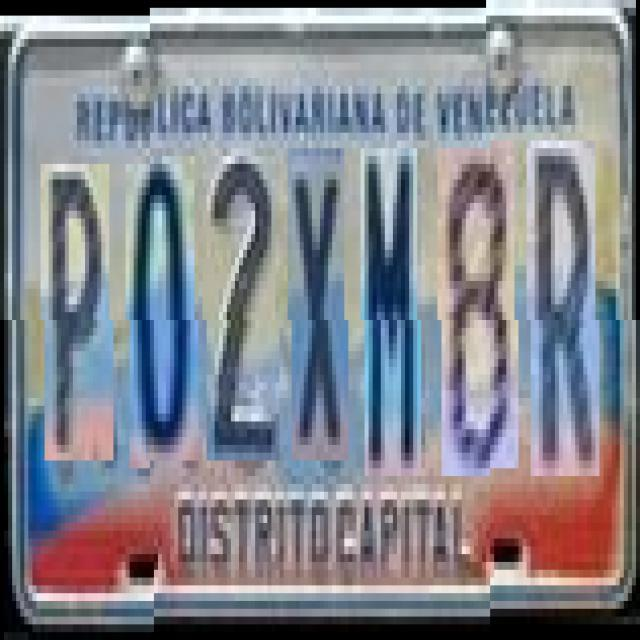2: (207, 148, 280, 460)
8: (442, 148, 518, 476)
M: (364, 148, 422, 476)
O: (130, 156, 198, 461)
P: (44, 156, 114, 453)
R: (530, 148, 600, 484)
X: (292, 148, 348, 460)
